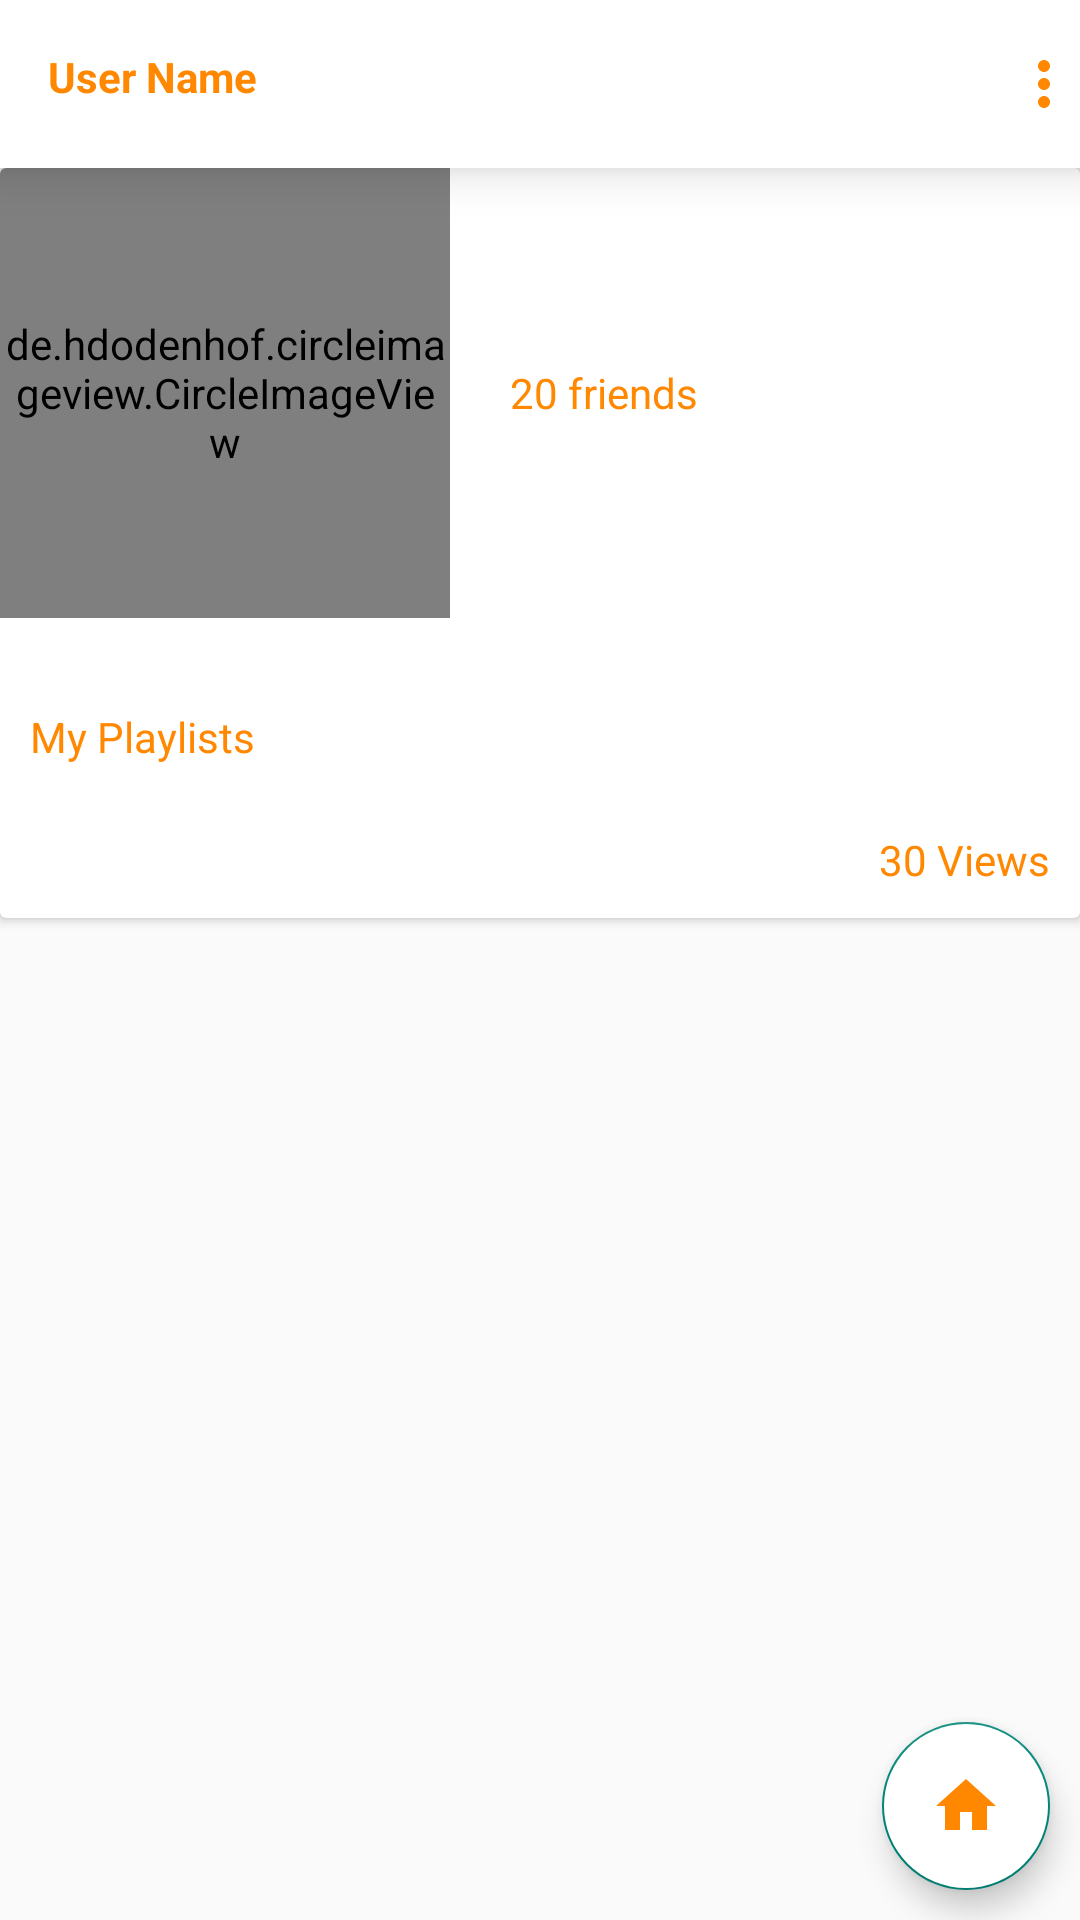

Where to tap for icons on this 1080px x 1920px app screen, as [x,y]:
home: [966,1806]
overflow: [1044,84]
